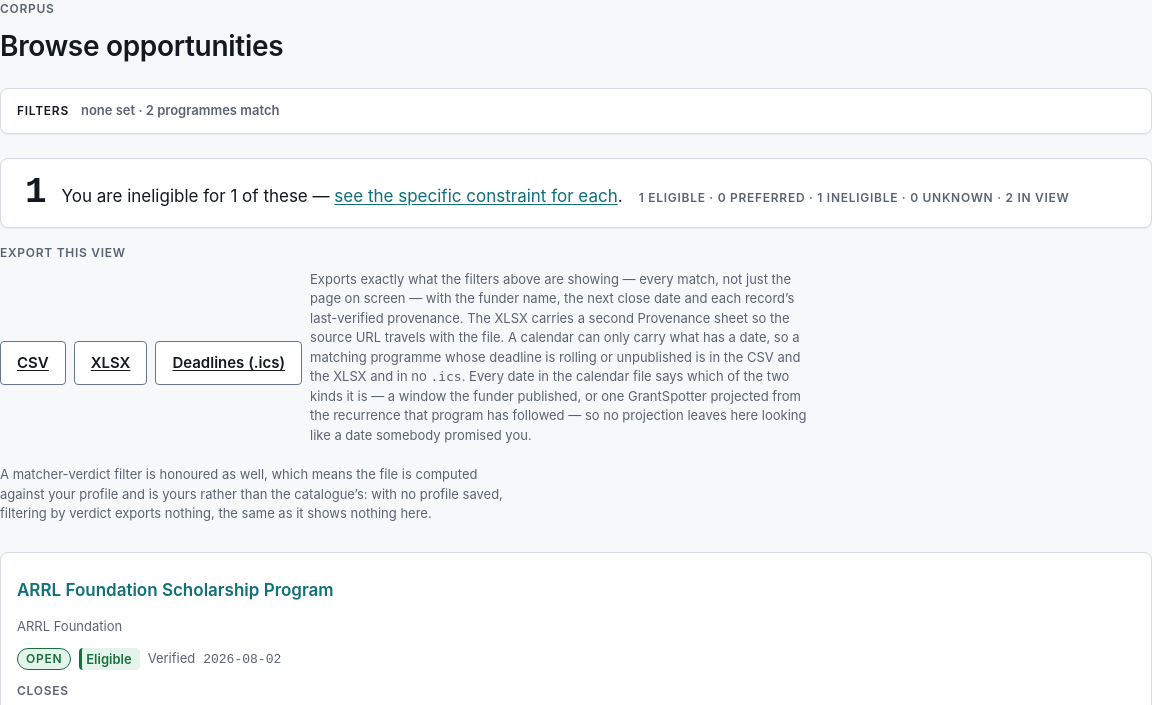
Test case: Browse filter sheet › opens on the summary, putting the whole panel within reach
Click the heading "Filters none set · 2 programmes match": (148, 110) [17,102,279,118]
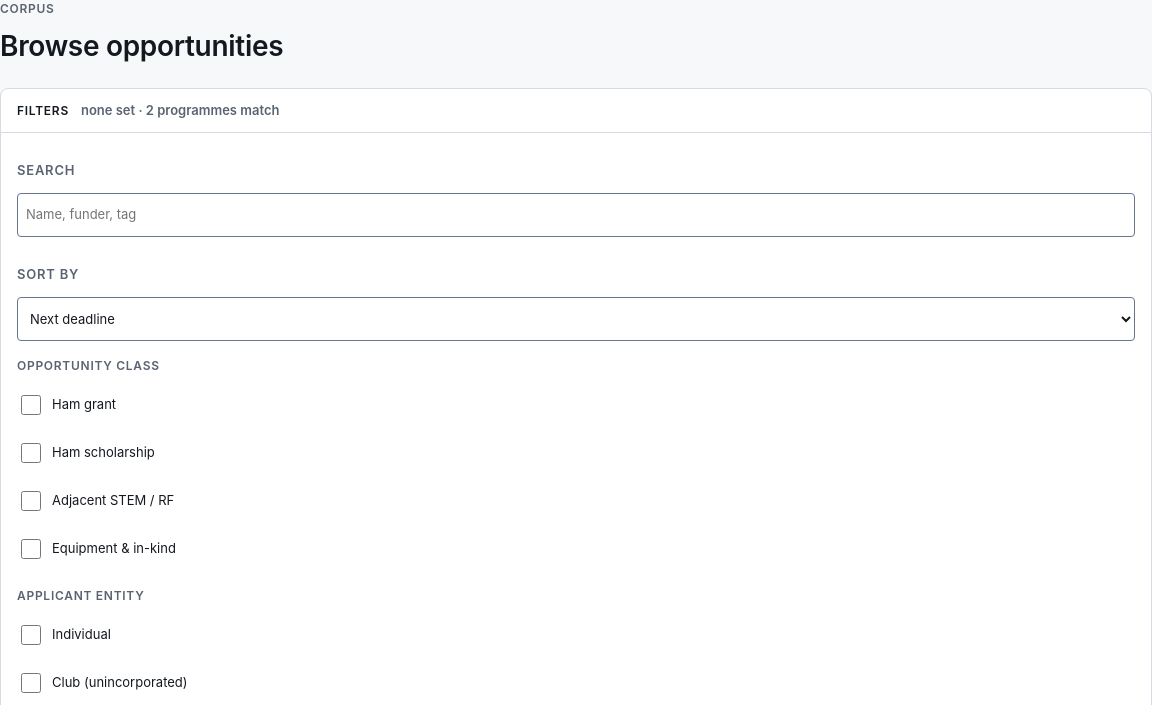
Check: the number of search fields is 1, box [17,193,1135,237]
